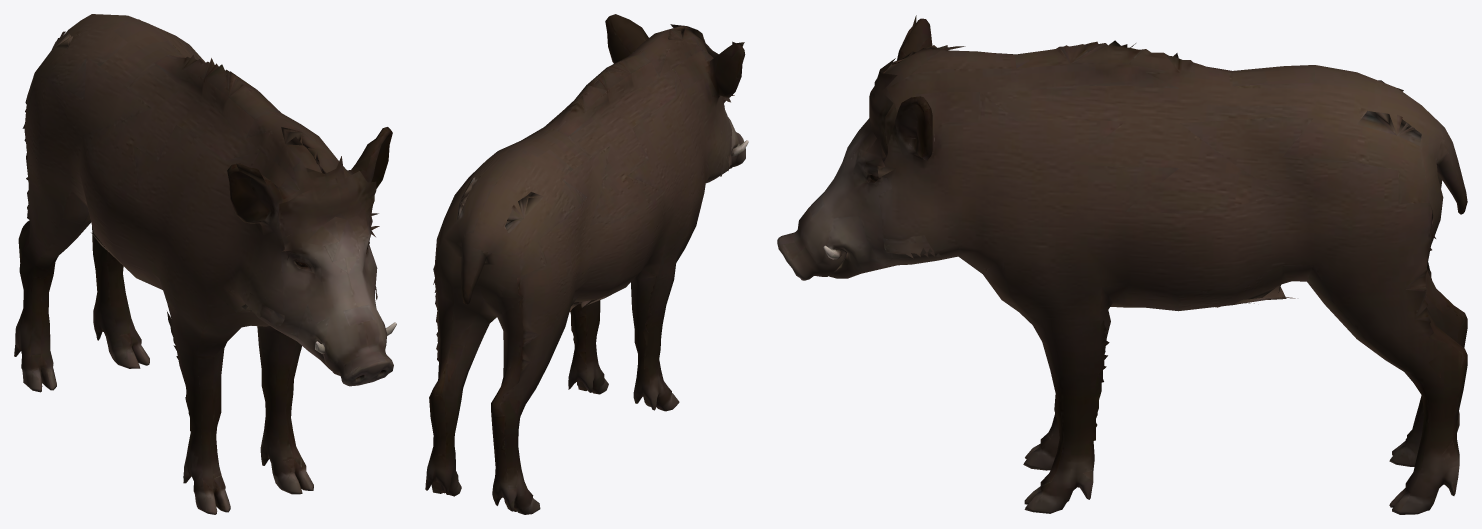
File: javali_jovem.glb
3 views of the same model, side by side, from view 1: azimuth 30°, elevation 25°; view 2: azimuth 150°, elevation 25°; view 3: azimuth 270°, elevation 25° (orthographic). The views are drawn at different scales.
Parts seen in each view (by area): view 1: Javali jovem; view 2: Javali jovem; view 3: Javali jovem.
Boxes of the visible parts, <box> form: Javali jovem: <box>14,14,396,514</box>; Javali jovem: <box>425,14,748,514</box>; Javali jovem: <box>777,15,1467,514</box>.
Size of the model in its own units: 0.3145 by 0.709 by 0.998.
Materials: 1 (1 with a texture image).
